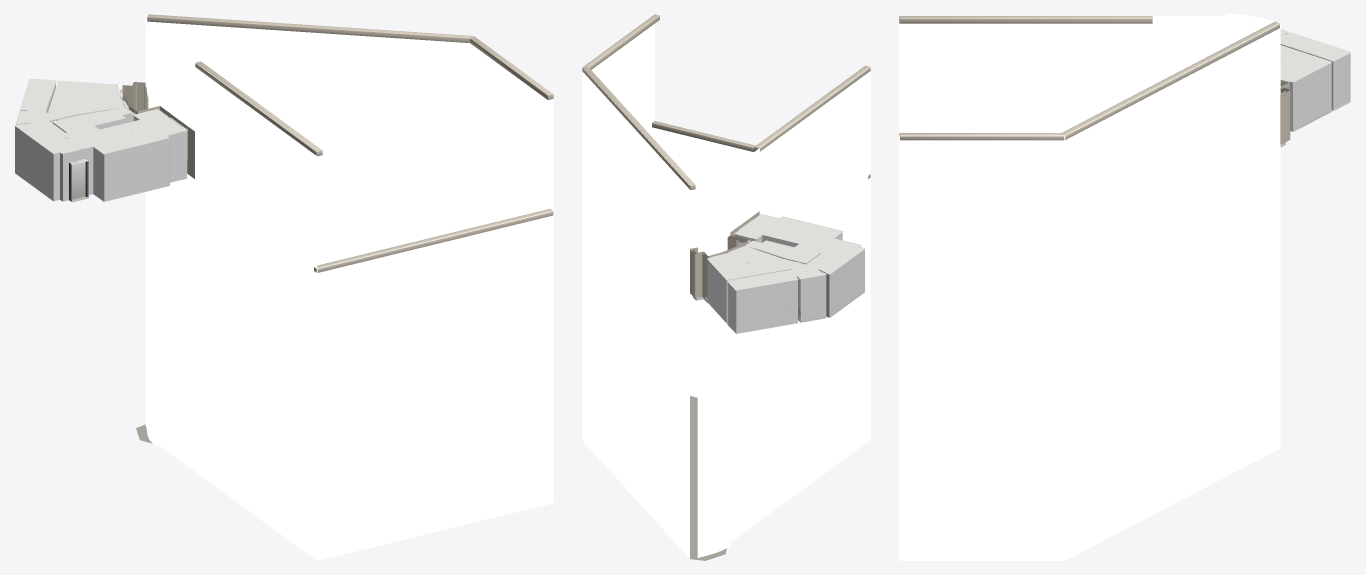
The model's file is appartement.glb.
3 renders of one model, left to right at view 1: azimuth 30°, elevation 25°; view 2: azimuth 150°, elevation 25°; view 3: azimuth 270°, elevation 25°, orthographic. The views are drawn at different scales.
Visible parts, largest first — view 1: immeuble_bas, notre_immeuble, voisin_nord_est, facade_inferieure, immeuble_en_face, murs, plafond_sejour_0, facade_superieure, voisin_nord_est_corniche, plafond_chambre_0, immeuble_bas_corniche, notre_immeuble_corniche (+4 smaller); view 2: voisin_nord_est, notre_immeuble, facade_inferieure, murs, immeuble_bas, plafond_sejour_0, facade_superieure, immeuble_en_face, faience, plafond_chambre_0, sol_cour, voisin_nord_est_corniche (+6 smaller); view 3: voisin_nord_est, immeuble_en_face, notre_immeuble, facade_superieure, murs, voisin_nord_est_corniche, notre_immeuble_corniche, immeuble_en_face_corniche, plafond_chambre_0, plafond_sdb_0, murs_facade, faience.
Boxes of the visible parts, bbox=[...] form: immeuble_bas: bbox=[317, 211, 553, 560]; notre_immeuble: bbox=[195, 62, 316, 560]; voisin_nord_est: bbox=[148, 14, 474, 265]; facade_inferieure: bbox=[145, 178, 194, 471]; immeuble_en_face: bbox=[474, 36, 553, 226]; murs: bbox=[15, 83, 169, 201]; plafond_sejour_0: bbox=[14, 107, 187, 154]; facade_superieure: bbox=[145, 18, 194, 131]; voisin_nord_est_corniche: bbox=[147, 14, 473, 42]; plafond_chambre_0: bbox=[48, 80, 124, 118]; immeuble_bas_corniche: bbox=[314, 209, 553, 272]; notre_immeuble_corniche: bbox=[195, 61, 322, 156]; voisin_nord_est: bbox=[582, 67, 689, 558]; notre_immeuble: bbox=[759, 67, 870, 520]; facade_inferieure: bbox=[697, 299, 759, 557]; murs: bbox=[707, 216, 864, 333]; immeuble_bas: bbox=[654, 120, 755, 397]; plafond_sejour_0: bbox=[734, 214, 865, 274]; facade_superieure: bbox=[697, 148, 759, 247]; immeuble_en_face: bbox=[583, 14, 654, 139]; faience: bbox=[729, 287, 797, 333]; plafond_chambre_0: bbox=[707, 246, 797, 279]; sol_cour: bbox=[690, 396, 726, 560]; voisin_nord_est_corniche: bbox=[582, 66, 695, 189]; voisin_nord_est: bbox=[1065, 23, 1280, 560]; immeuble_en_face: bbox=[899, 135, 1064, 560]; notre_immeuble: bbox=[899, 15, 1152, 132]; facade_superieure: bbox=[1152, 14, 1274, 84]; murs: bbox=[1280, 32, 1350, 131]; voisin_nord_est_corniche: bbox=[1060, 21, 1279, 139]; notre_immeuble_corniche: bbox=[899, 16, 1152, 23]; immeuble_en_face_corniche: bbox=[899, 133, 1064, 140]; plafond_chambre_0: bbox=[1280, 45, 1331, 82]; plafond_sdb_0: bbox=[1280, 32, 1351, 61]; murs_facade: bbox=[1280, 82, 1290, 144]; faience: bbox=[1309, 53, 1350, 108].
Bounding box in the file's own units: 21.62 × 23.1 × 22.26.
